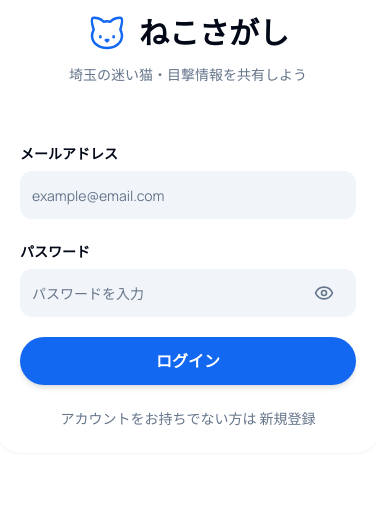
Test: LoginWithAuth › APIから返された日本語エラーメッセージを表示すること
The image size is (377, 505).
Type "test@example.com" into the field labelled "メールアドレス".
click(188, 195); type("test@example.com")  # box 20,171 -> 356,219
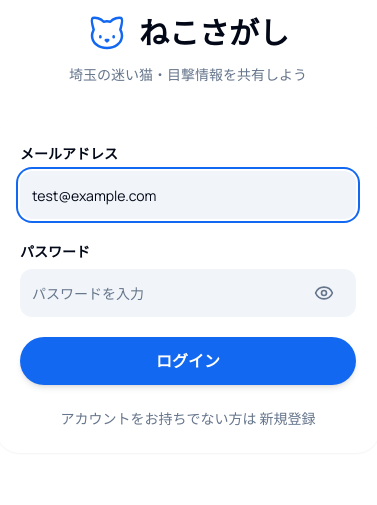
Type "wrongpass" into the password field labelled "パスワード".
click(188, 293); type("wrongpass")  # box 20,269 -> 356,317
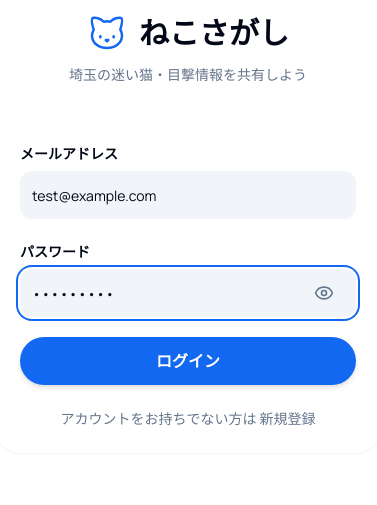
Click the button "ログイン".
click(188, 361)  # box 20,337 -> 356,385
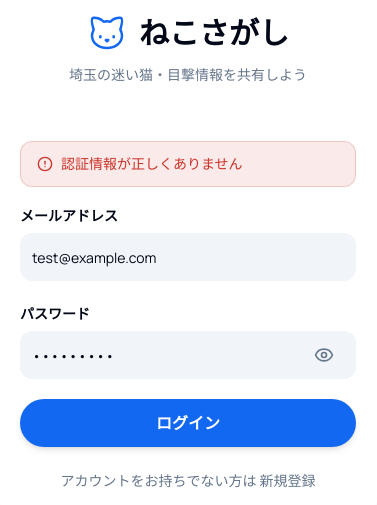
expect the text "認証情報が正しくありません" is shown: met, box 61,154 -> 243,174
